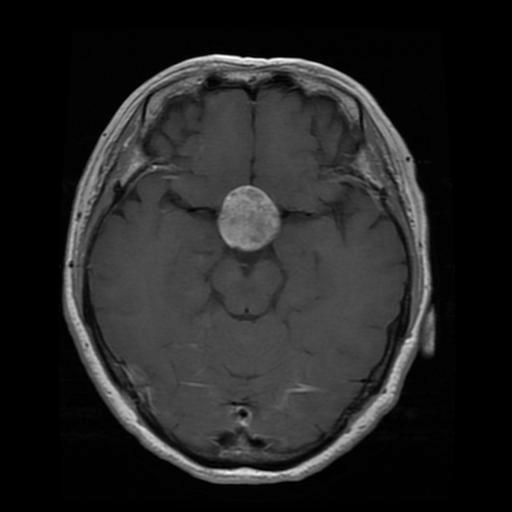Tumour-Pituitary: (213, 180, 287, 258)
